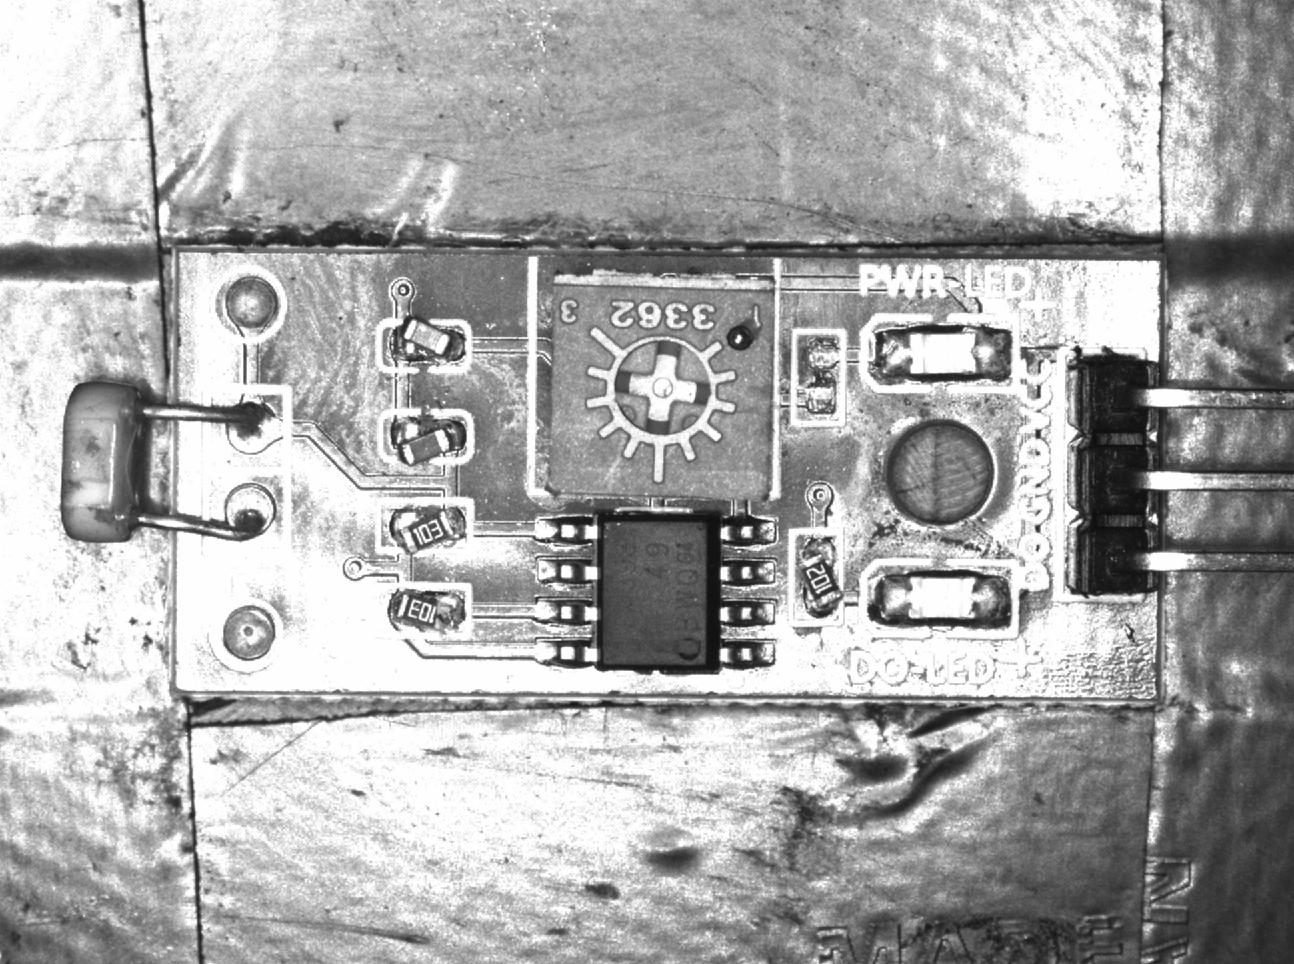lifted: (370, 585, 476, 639), (379, 410, 481, 465), (790, 530, 845, 623), (379, 501, 473, 555), (373, 321, 470, 372)
miss: (789, 330, 846, 424)
